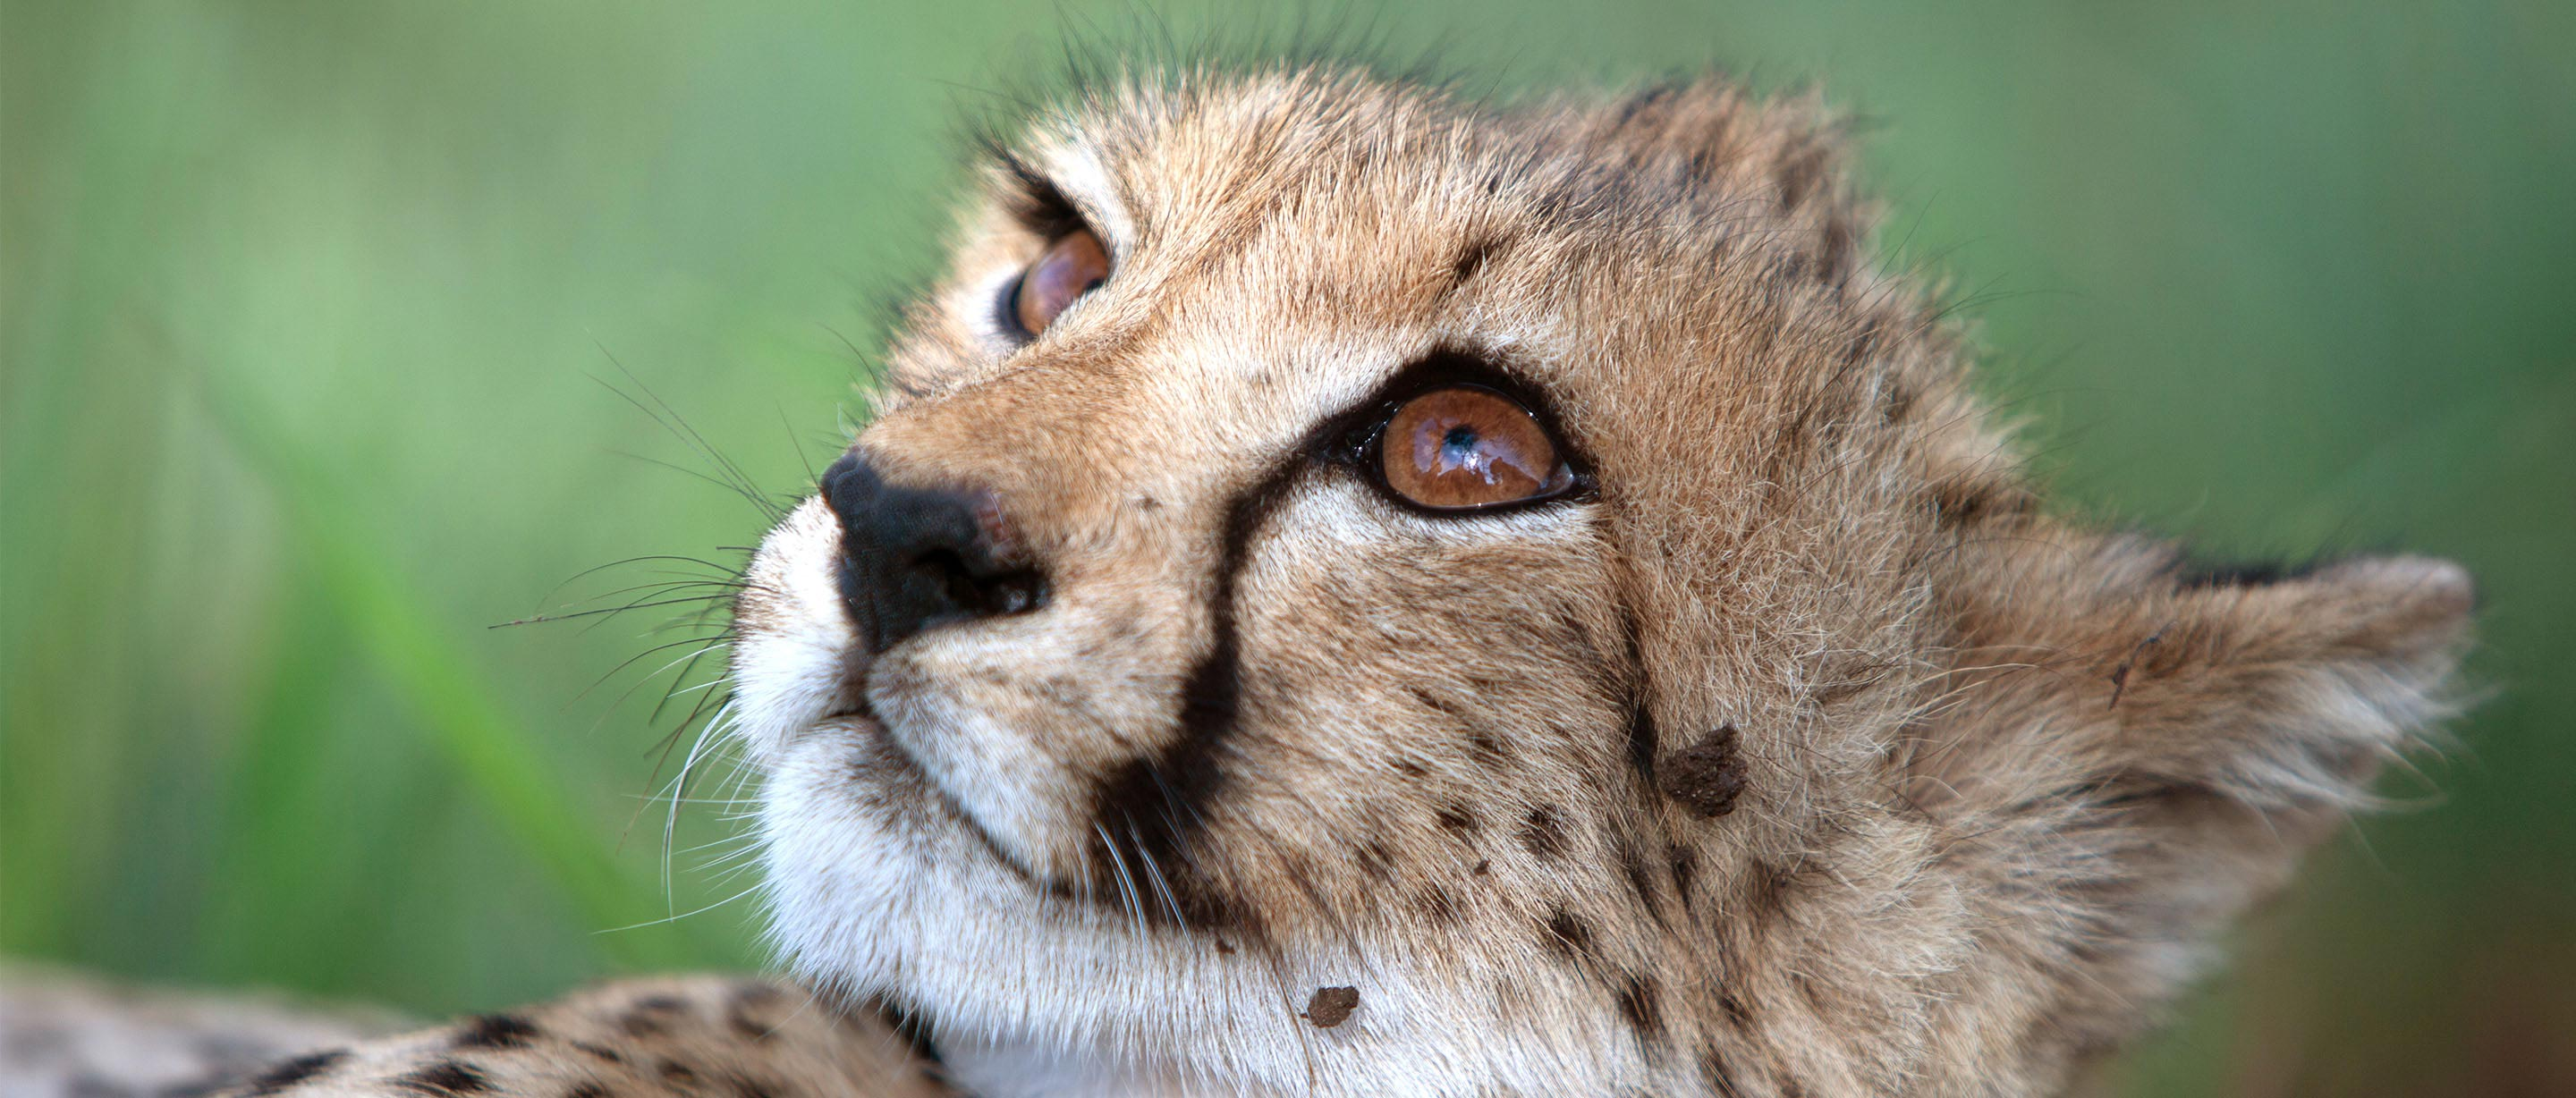cheetah: (629, 21, 2523, 1098)
